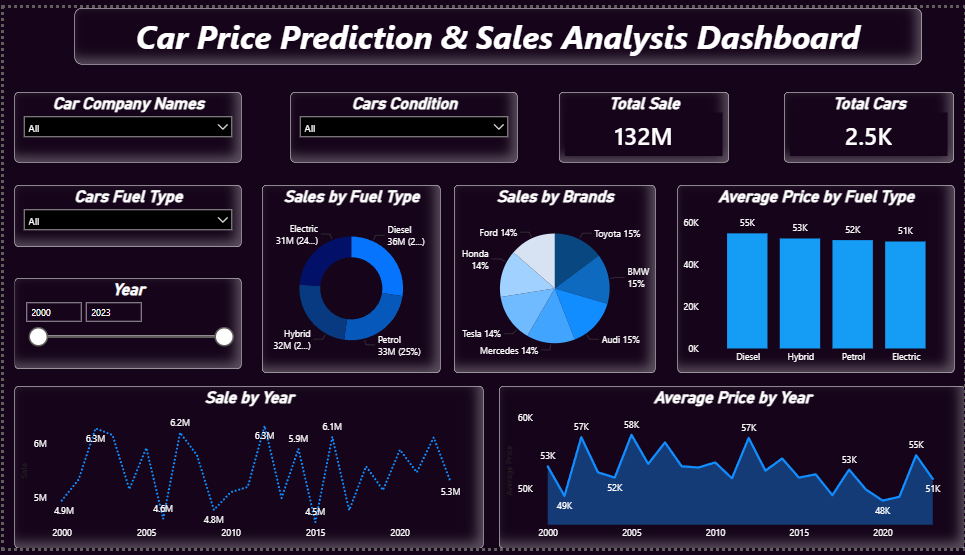

The dashboard page shown, as its layout file describes it:
{"tool":"powerbi","page":{"name":"Page 1","canvas":[1280,720],"ordinal":0},"visuals":[{"type":"textbox","title":"C","box":[93.3,0,1130,75],"z":0},{"type":"cardVisual","title":"Total Sale","fields":{"Data":["Table.Sale"]},"box":[740,111.7,226.7,93.9],"z":1000},{"type":"cardVisual","title":"Total Cars","fields":{"Data":["CountNonNull(car_price_prediction_.Car ID)"]},"box":[1039.5,111.7,226.7,93.9],"z":2000},{"type":"slicer","title":"Car Company Names","fields":{"Values":["car_price_prediction_.Brand"]},"box":[14.6,111.7,302.8,93.9],"z":3000},{"type":"slicer","title":"Cars Fuel Type","fields":{"Values":["car_price_prediction_.Fuel Type"]},"box":[14.6,236.4,302.8,82.6],"z":4000},{"type":"slicer","title":"Year","fields":{"Values":["car_price_prediction_.Year"]},"box":[14.6,359.5,302.8,121.4],"z":5000},{"type":"donutChart","title":"Sales by Fuel Type","fields":{"Category":["car_price_prediction_.Fuel Type"],"Y":["Table.Sale"]},"box":[343.3,236.4,238,251],"z":6000},{"type":"pieChart","title":"Sales by Brands","fields":{"Category":["car_price_prediction_.Brand"],"Y":["Table.Sale"]},"box":[599.1,236.4,268.8,251],"z":7000},{"type":"lineChart","fields":{"Y":["Table.Sale"],"Category":["car_price_prediction_.Year"]},"box":[14.6,503.6,625,217],"z":8000},{"type":"slicer","title":"Cars Condition","fields":{"Values":["car_price_prediction_.Condition"]},"box":[382.1,111.7,302.8,93.9],"z":9000},{"type":"areaChart","fields":{"Category":["car_price_prediction_.Year"],"Y":["Table.Average Price"]},"box":[659,503.6,621.8,217],"z":10000},{"type":"columnChart","title":"Average Price by Fuel Type","fields":{"Category":["car_price_prediction_.Fuel Type"],"Y":["Avg(car_price_prediction_.Price)"]},"box":[897.1,236.4,369.2,251],"z":11000}]}

Visuals, with their boxes in screenshot pixels (x1, y1, x2, y2), scaled from the page's 1280x720 canvas onto the 965x555 screenshot:
"C" textbox: BBox(70, 0, 922, 58)
"Total Sale" cardVisual: BBox(558, 86, 729, 158)
"Total Cars" cardVisual: BBox(784, 86, 955, 158)
"Car Company Names" slicer: BBox(11, 86, 239, 158)
"Cars Fuel Type" slicer: BBox(11, 182, 239, 246)
"Year" slicer: BBox(11, 277, 239, 371)
"Sales by Fuel Type" donutChart: BBox(259, 182, 438, 376)
"Sales by Brands" pieChart: BBox(452, 182, 654, 376)
lineChart - Table.Sale x car_price_prediction_.Year: BBox(11, 388, 482, 554)
"Cars Condition" slicer: BBox(288, 86, 516, 158)
areaChart - car_price_prediction_.Year x Table.Average Price: BBox(497, 388, 964, 554)
"Average Price by Fuel Type" columnChart: BBox(676, 182, 955, 376)
